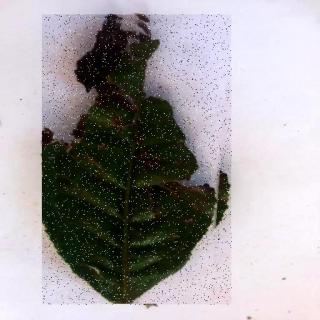Brown Blight: (44, 16, 234, 306)
